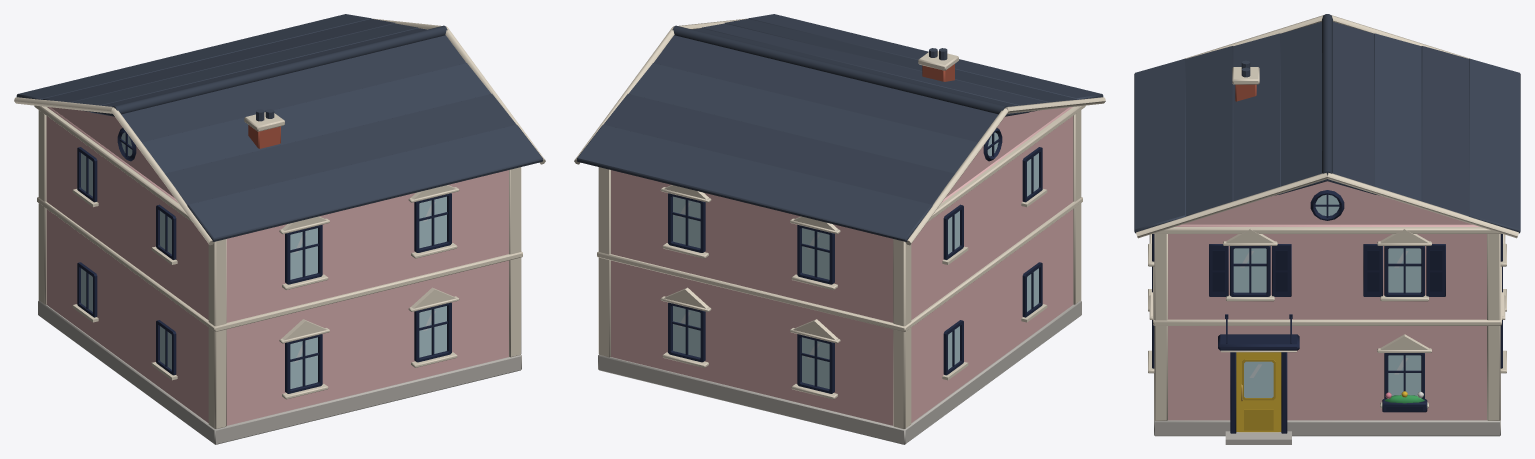
File: house_side_b.glb
3 renders of one model, left to right at view 1: azimuth 30°, elevation 25°; view 2: azimuth 150°, elevation 25°; view 3: azimuth 270°, elevation 25°, orthographic. The views are drawn at different scales.
Parts seen in each view (by area): view 1: HouseSideB; view 2: HouseSideB; view 3: HouseSideB.
Part boxes in pixels (left/top/right/bottom): HouseSideB: left=14, top=14, right=545, bottom=444; HouseSideB: left=574, top=14, right=1105, bottom=444; HouseSideB: left=1134, top=14, right=1520, bottom=444.
Bounding box in the file's own units: 9.24 × 6.99 × 9.01.
